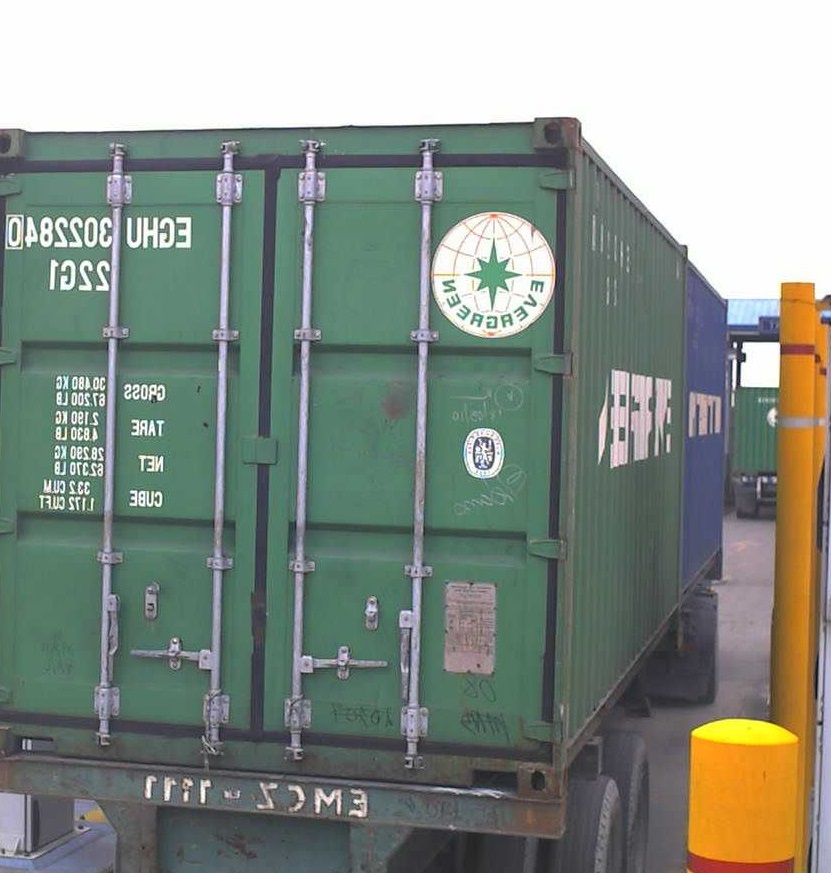container_door: (1, 117, 574, 800)
